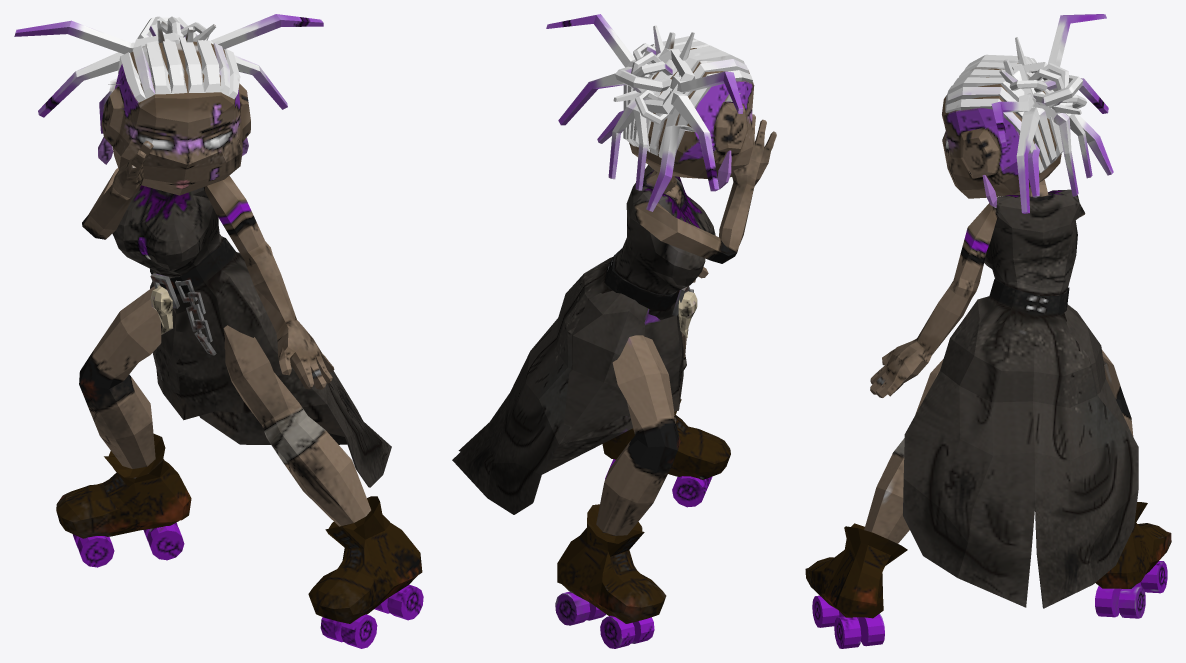
The model's file is bruja_000034.obj.
3 views of the same model, side by side, from view 1: azimuth 30°, elevation 25°; view 2: azimuth 150°, elevation 25°; view 3: azimuth 270°, elevation 25° (orthographic). The views are drawn at different scales.
Parts seen in each view (by area): view 1: Bruja_Plane.001; view 2: Bruja_Plane.001; view 3: Bruja_Plane.001.
Boxes of the visible parts, x1=… form: Bruja_Plane.001: x1=14, y1=14, x2=423, y2=648; Bruja_Plane.001: x1=452, y1=14, x2=776, y2=648; Bruja_Plane.001: x1=805, y1=14, x2=1171, y2=648.
Size of the model in its own units: 9.24 by 15.45 by 9.24.
